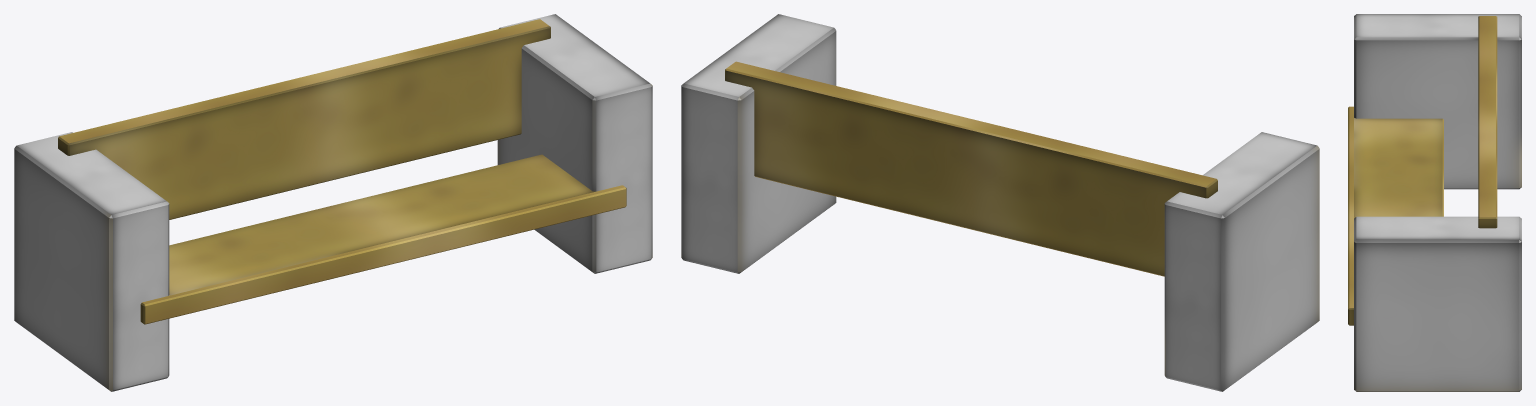
Rendered from bench.FBX.
3 renders of one model, left to right at view 1: azimuth 30°, elevation 25°; view 2: azimuth 150°, elevation 25°; view 3: azimuth 270°, elevation 25°, orthographic. The views are drawn at different scales.
Visible parts, largest first — view 1: Box003; view 2: Box003; view 3: Box003.
Boxes of the visible parts, x1=… form: Box003: x1=14, y1=14, x2=652, y2=391; Box003: x1=681, y1=14, x2=1319, y2=391; Box003: x1=1348, y1=14, x2=1521, y2=391.
Bounding box in the file's own units: 2.25 × 0.7474 × 0.7248.
1 material, 1 textured.
